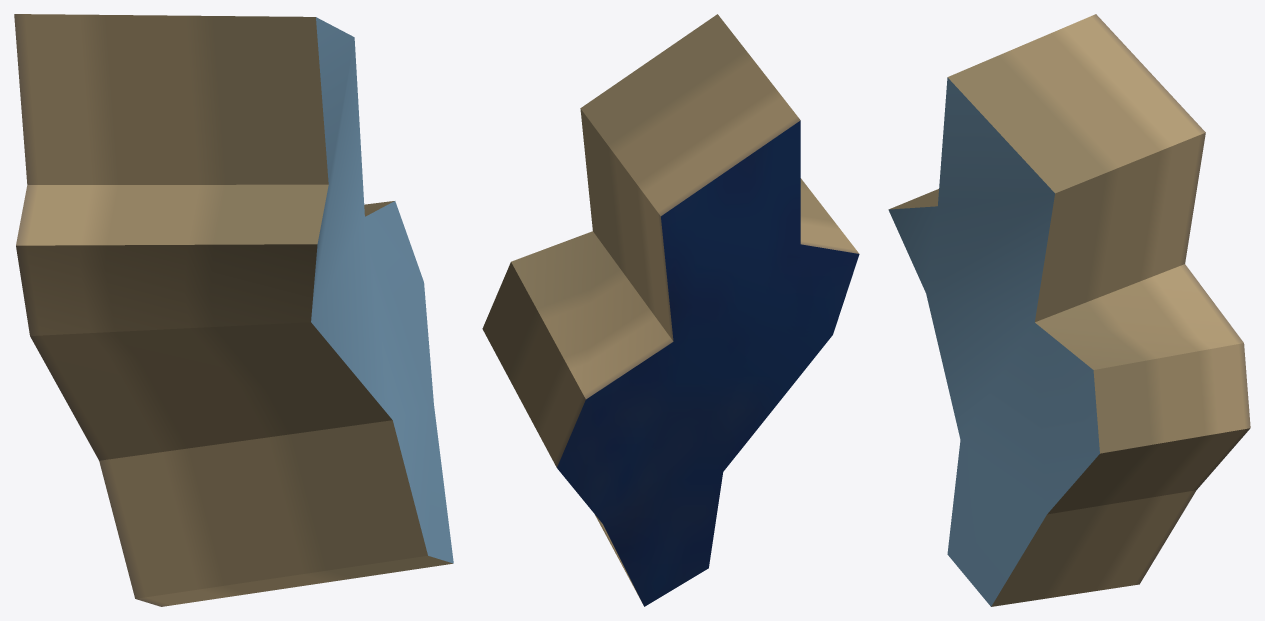
File: 0695_Kyrgyz.glb
3 renders of one model, left to right at view 1: azimuth 30°, elevation 25°; view 2: azimuth 150°, elevation 25°; view 3: azimuth 270°, elevation 25°, orthographic. The views are drawn at different scales.
Visible parts, largest first — view 1: part_0; view 2: part_0; view 3: part_0.
Part boxes in pixels (x1=…): part_0: x1=14, y1=14, x2=453, y2=606; part_0: x1=482, y1=14, x2=859, y2=606; part_0: x1=888, y1=14, x2=1250, y2=606.
Size of the model in its own units: 0.3393 by 0.4859 by 0.3078.
Materials: 1 (1 with a texture image).
